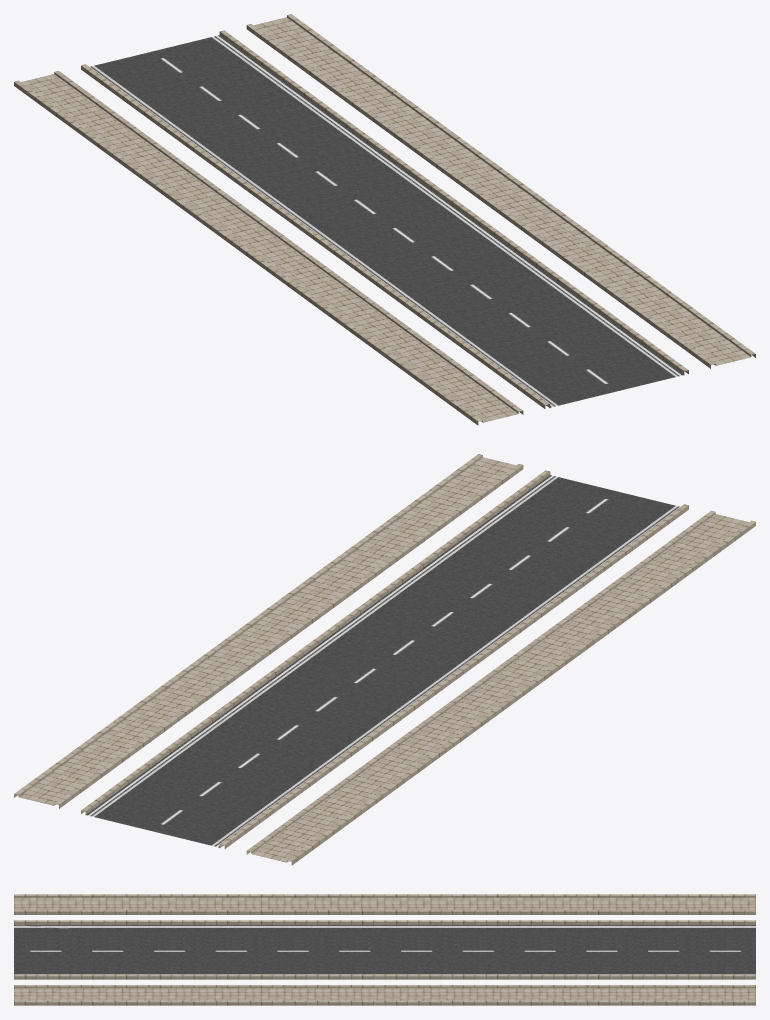
File: Street1Lane60m.FBX
3 renders of one model, top to bottom at view 1: azimuth 30°, elevation 25°; view 2: azimuth 150°, elevation 25°; view 3: azimuth 270°, elevation 25°, orthographic. The views are drawn at different scales.
Parts seen in each view (by area): view 1: Street1Lane60m; view 2: Street1Lane60m; view 3: Street1Lane60m.
Part boxes in pixels (x1,y1,x2,y2): Street1Lane60m: [14, 14, 755, 425]; Street1Lane60m: [14, 454, 755, 865]; Street1Lane60m: [14, 894, 755, 1005].
Size of the model in its own units: 20.7 by 0.3 by 60.
2 materials, 2 textured.
